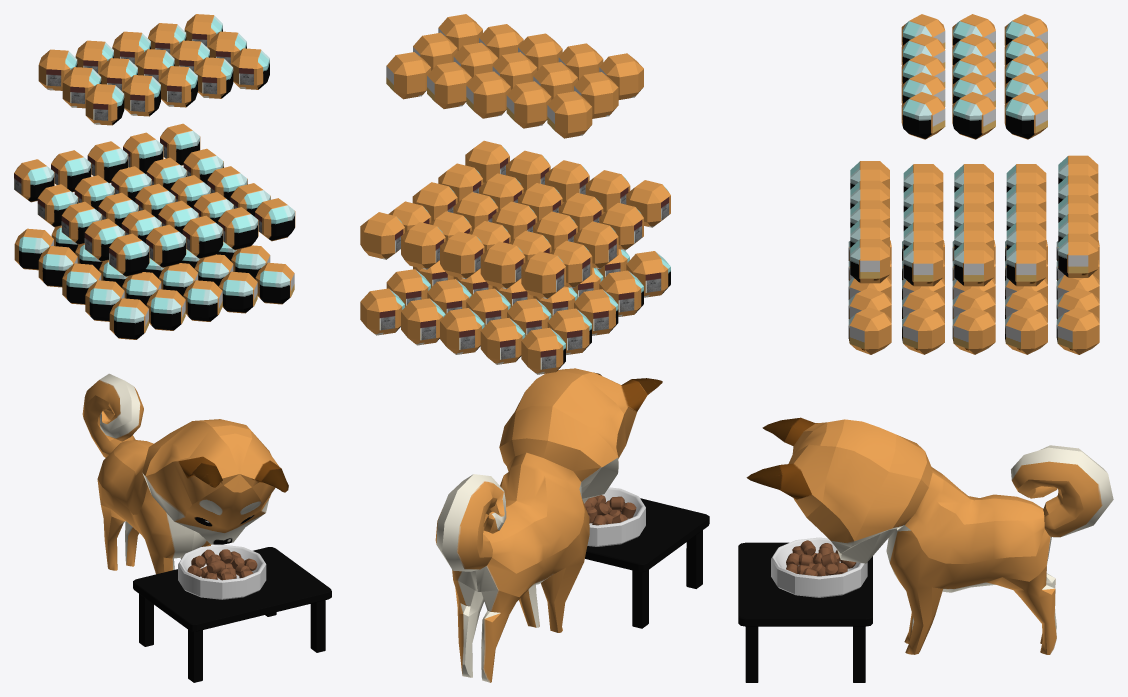
File: fullBowl_frame68.obj
3 renders of one model, left to right at view 1: azimuth 30°, elevation 25°; view 2: azimuth 150°, elevation 25°; view 3: azimuth 270°, elevation 25°, orthographic. The views are drawn at different scales.
Visible parts, largest first — view 1: newRigging1:BodzL1, Tisch:Tisch:pCube1, FressnapfFull:bulletRigidSetSolved1, FressnapfFull:pCube45, FressnapfFull:pCube46, FressnapfFull:pCube57, FressnapfFull:pCube48, FressnapfFull:pCube50, FressnapfFull:pCube43, FressnapfFull:pCube49, FressnapfFull:pCube42, FressnapfFull:pCube36 (+44 smaller); view 2: newRigging1:BodzL1, Tisch:Tisch:pCube1, FressnapfFull:bulletRigidSetSolved1, FressnapfFull:pCube39, FressnapfFull:pCube51, FressnapfFull:pCube64, FressnapfFull:pCube54, FressnapfFull:pCube37, FressnapfFull:pCube61, FressnapfFull:pCube55, FressnapfFull:pCube53, FressnapfFull:pCube41 (+45 smaller); view 3: newRigging1:BodzL1, Tisch:Tisch:pCube1, FressnapfFull:bulletRigidSetSolved1, FressnapfFull:pCube36, FressnapfFull:pCube4, FressnapfFull:pCube41, FressnapfFull:pCube50, FressnapfFull:pCube55, FressnapfFull:pCube31, FressnapfFull:pCube20, FressnapfFull:pCube10, FressnapfFull:pCube15 (+42 smaller).
Part boxes in pixels (bbox=[...]): newRigging1:BodzL1: bbox=[82, 373, 288, 574]; Tisch:Tisch:pCube1: bbox=[133, 547, 331, 682]; FressnapfFull:bulletRigidSetSolved1: bbox=[178, 544, 266, 599]; FressnapfFull:pCube45: bbox=[85, 84, 124, 125]; FressnapfFull:pCube46: bbox=[109, 298, 148, 339]; FressnapfFull:pCube57: bbox=[109, 233, 149, 276]; FressnapfFull:pCube48: bbox=[183, 280, 222, 321]; FressnapfFull:pCube50: bbox=[255, 262, 294, 304]; FressnapfFull:pCube43: bbox=[159, 66, 197, 107]; FressnapfFull:pCube49: bbox=[146, 289, 185, 330]; FressnapfFull:pCube42: bbox=[122, 75, 160, 116]; FressnapfFull:pCube36: bbox=[231, 48, 269, 89]; newRigging1:BodzL1: bbox=[435, 368, 662, 682]; Tisch:Tisch:pCube1: bbox=[585, 498, 709, 628]; FressnapfFull:bulletRigidSetSolved1: bbox=[587, 487, 645, 546]; FressnapfFull:pCube39: bbox=[547, 91, 592, 138]; FressnapfFull:pCube51: bbox=[521, 327, 565, 374]; FressnapfFull:pCube64: bbox=[521, 251, 565, 298]; FressnapfFull:pCube54: bbox=[480, 318, 525, 364]; FressnapfFull:pCube37: bbox=[506, 81, 551, 128]; FressnapfFull:pCube61: bbox=[480, 241, 525, 289]; FressnapfFull:pCube55: bbox=[360, 288, 404, 335]; FressnapfFull:pCube53: bbox=[440, 308, 484, 354]; FressnapfFull:pCube41: bbox=[386, 52, 430, 99]; newRigging1:BodzL1: bbox=[746, 417, 1113, 654]; Tisch:Tisch:pCube1: bbox=[738, 542, 872, 682]; FressnapfFull:bulletRigidSetSolved1: bbox=[771, 537, 867, 597]; FressnapfFull:pCube36: bbox=[901, 92, 945, 139]; FressnapfFull:pCube4: bbox=[952, 307, 995, 354]; FressnapfFull:pCube41: bbox=[1004, 92, 1047, 139]; FressnapfFull:pCube50: bbox=[848, 307, 891, 354]; FressnapfFull:pCube55: bbox=[1056, 307, 1099, 354]; FressnapfFull:pCube31: bbox=[952, 92, 995, 139]; FressnapfFull:pCube20: bbox=[1006, 242, 1046, 286]; FressnapfFull:pCube10: bbox=[902, 307, 944, 354]; FressnapfFull:pCube15: bbox=[1005, 307, 1047, 354].
Size of the model in its own units: 5.73 by 16.34 by 9.44.
Materials: 4 (3 with a texture image).
